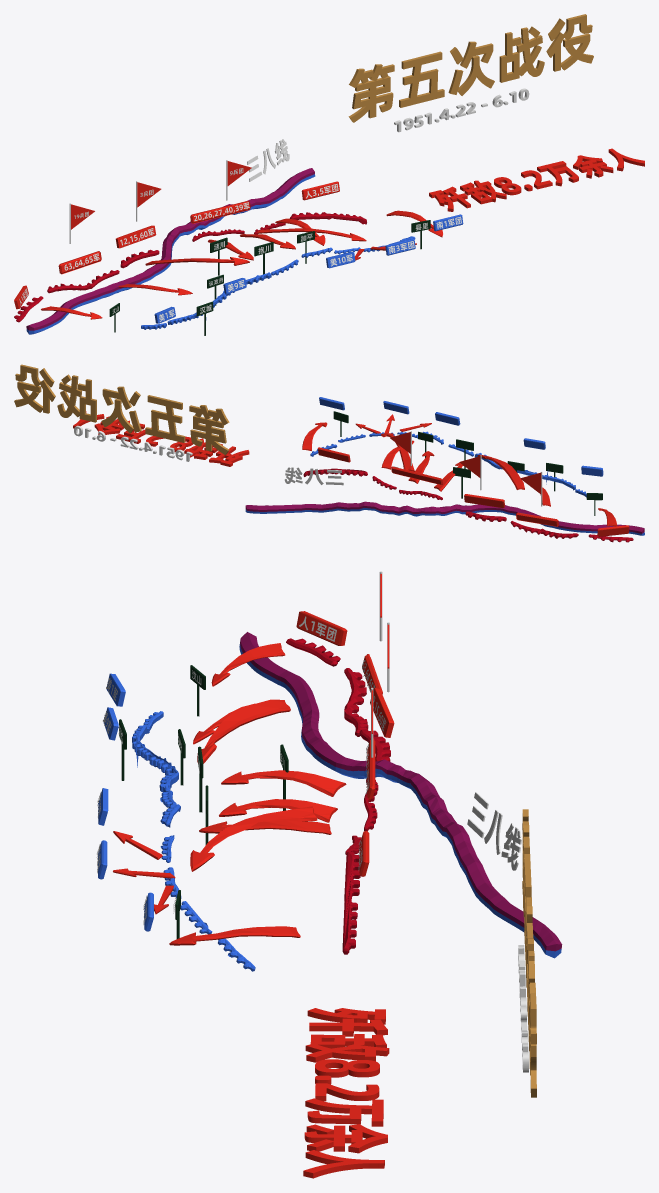
Rendered from 5-animate.glb.
3 views of the same model, one above another, from view 1: azimuth 30°, elevation 25°; view 2: azimuth 150°, elevation 25°; view 3: azimuth 270°, elevation 25° (orthographic). The views are drawn at different scales.
Parts seen in each view (by area): view 1: 文本.031, 文本.033, 38line3, 文本.032, 11.005, 文本.030, 11.003, 2.009, 1.003, 贝塞尔曲线.146; view 2: 文本.031, 38line3, 文本.033, 文本.032, 文本.030, 贝塞尔曲线.146, 11.005, 2.015, 1.003, 2.005, 11.003, q (+6 smaller); view 3: 文本.033, 38line3, 文本.031, 贝塞尔曲线.151, 贝塞尔曲线.146, 2.009, 贝塞尔曲线.147, 文本.030, 贝塞尔曲线.150, 贝塞尔曲线.148, 2.015, 贝塞尔曲线.149 (+4 smaller).
Part boxes in pixels (x1,y1,x2,y2): 文本.031: (348, 14, 593, 122); 文本.033: (429, 148, 644, 211); 38line3: (26, 168, 315, 334); 文本.032: (394, 88, 529, 132); 11.005: (190, 201, 250, 223); 文本.030: (247, 139, 289, 181); 11.003: (58, 251, 101, 274); 2.009: (290, 212, 366, 224); 1.003: (115, 225, 156, 248); 贝塞尔曲线.146: (145, 257, 249, 265); 文本.031: (14, 364, 229, 454); 38line3: (245, 501, 644, 535); 文本.033: (73, 411, 249, 466); 文本.032: (74, 425, 192, 461); 文本.030: (284, 467, 343, 485); 贝塞尔曲线.146: (477, 454, 524, 489); 11.005: (391, 466, 443, 485); 2.015: (474, 453, 575, 490); 1.003: (464, 494, 504, 507); 2.005: (510, 521, 578, 538); 11.003: (516, 512, 558, 526); q: (520, 471, 542, 506); 文本.033: (303, 1008, 389, 1178); 38line3: (239, 632, 562, 958); 文本.031: (522, 809, 536, 1097); 贝塞尔曲线.151: (190, 806, 317, 871); 贝塞尔曲线.146: (197, 699, 290, 763); 2.009: (342, 851, 360, 954); 贝塞尔曲线.147: (221, 770, 346, 796); 文本.030: (467, 792, 521, 870); 贝塞尔曲线.150: (169, 926, 300, 945); 贝塞尔曲线.148: (219, 799, 337, 822); 2.015: (132, 725, 178, 791); 贝塞尔曲线.149: (199, 820, 331, 834).
Size of the model in its own units: 52.5 by 8.88 by 18.96.
